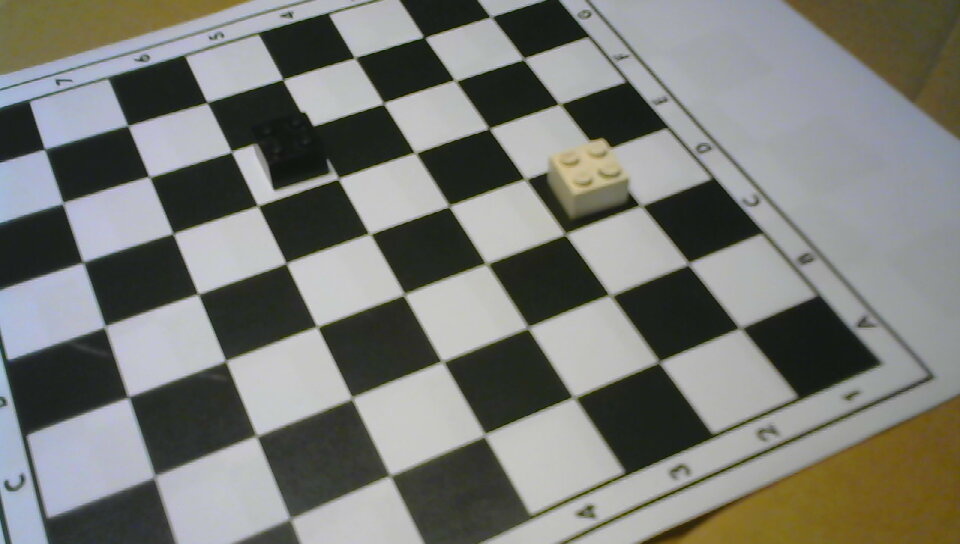bp: (253, 114, 328, 189)
wp: (545, 138, 629, 219)
